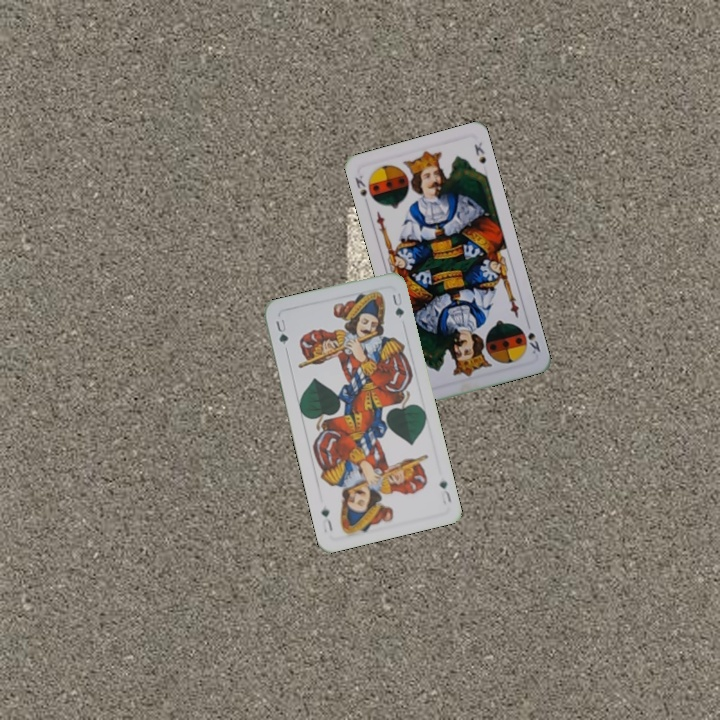GU: (272, 315, 291, 348), (435, 476, 454, 505)
SK: (523, 317, 543, 357), (351, 171, 369, 199)
